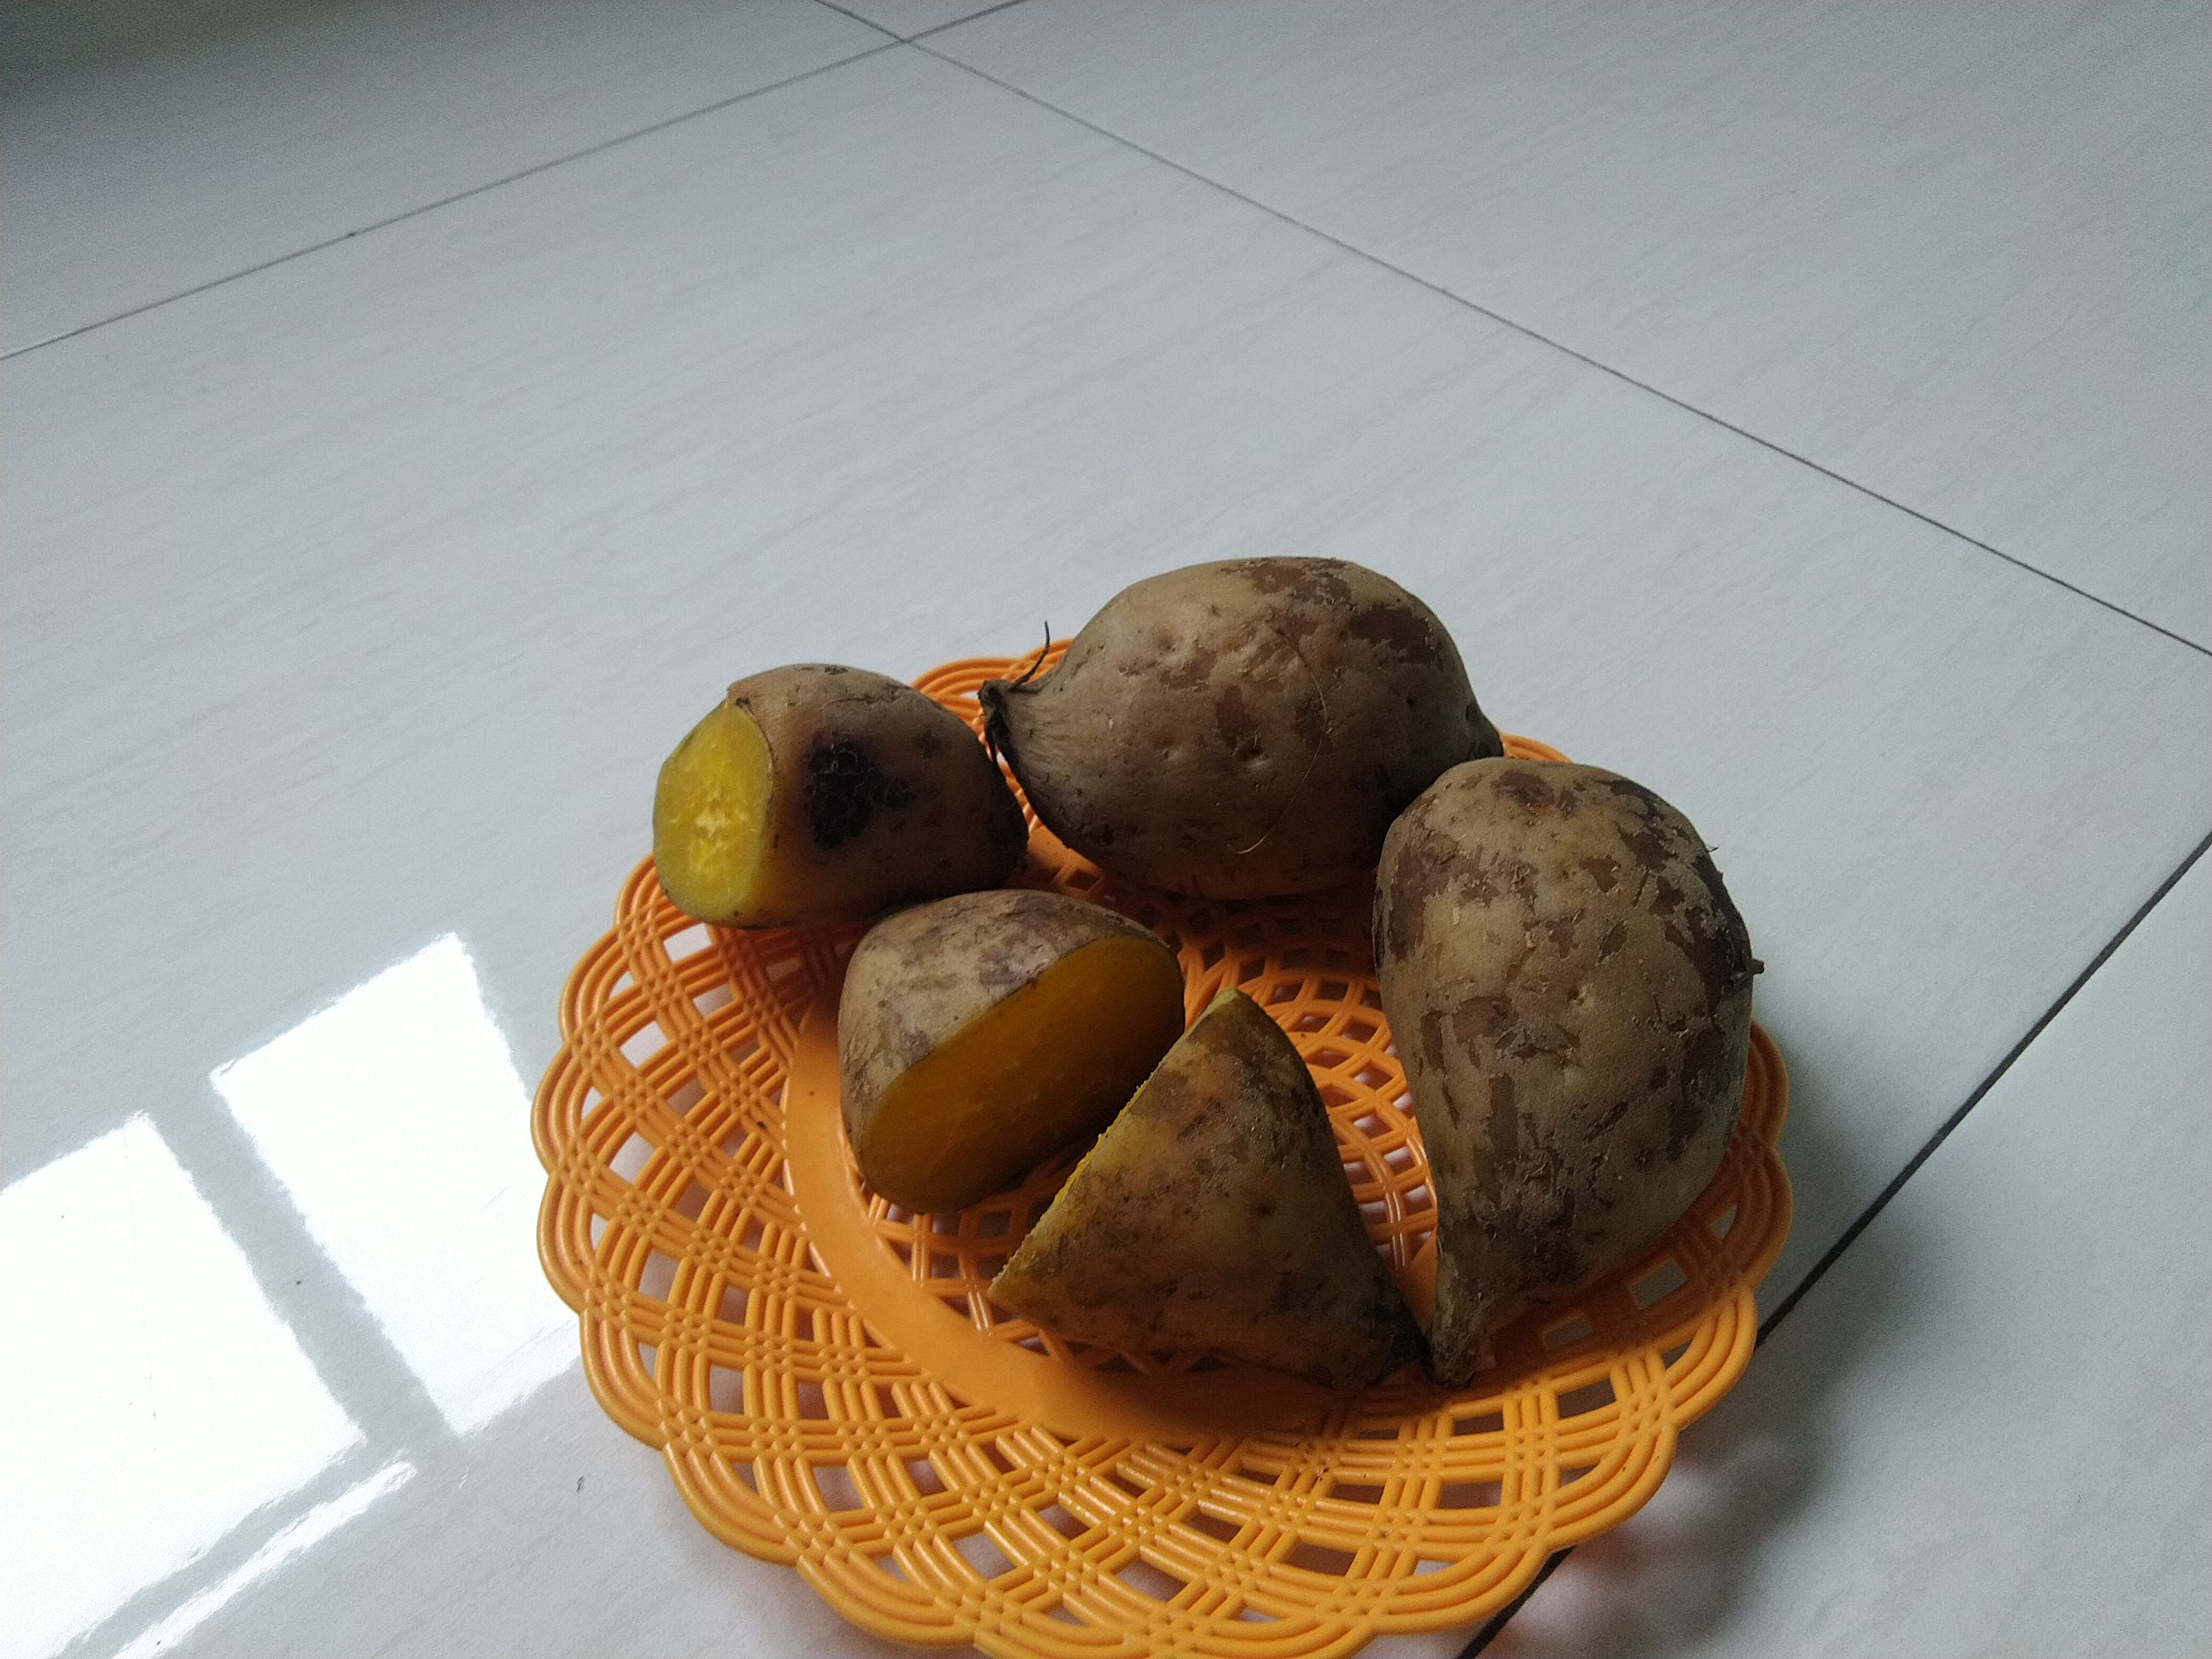ubi kuning: (634, 519, 1806, 1413), (803, 882, 1425, 1412), (1360, 756, 1777, 1382), (970, 535, 1552, 913), (975, 967, 1421, 1384), (646, 633, 1052, 943), (829, 864, 1195, 1208)
